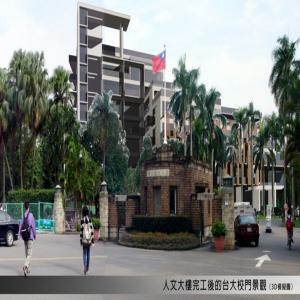Vehicle-registration-plate: (248, 228, 253, 233)
